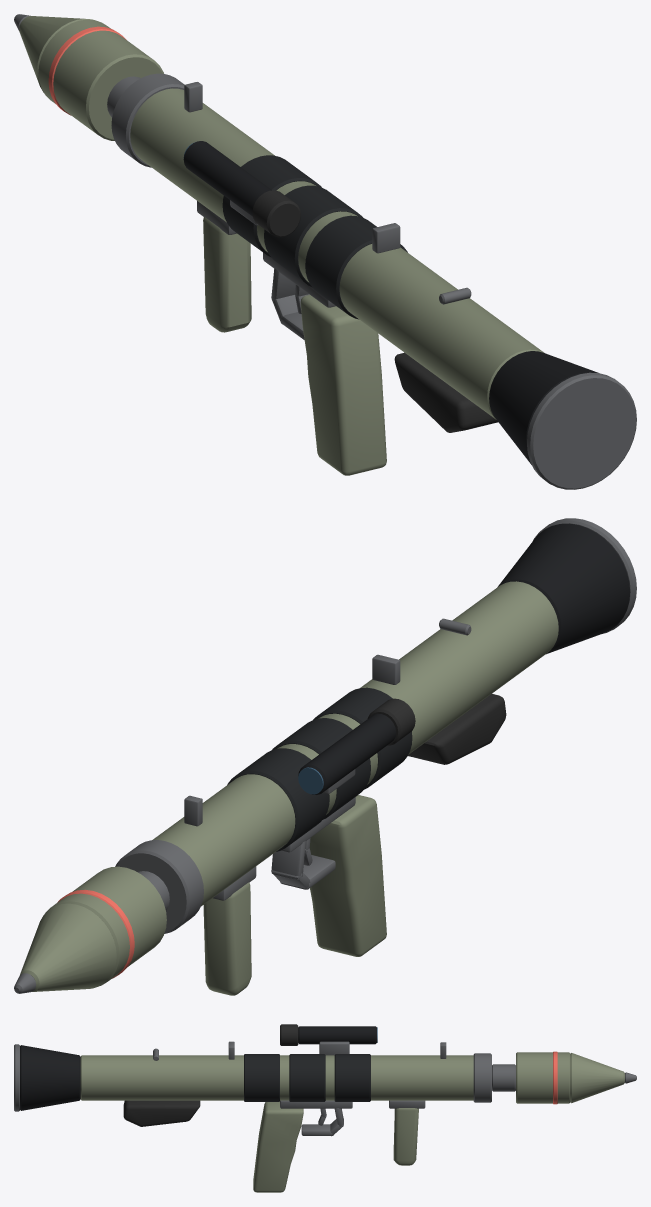
Rendered from RocketLauncher.fbx.
3 views of the same model, one above another, from view 1: azimuth 30°, elevation 25°; view 2: azimuth 150°, elevation 25°; view 3: azimuth 270°, elevation 25° (orthographic). The views are drawn at different scales.
Visible parts, largest first — view 1: Launch Tube, Pistol Grip, Rear Venturi Lip, Warhead Body, Rear Venturi, Forward Grip, Heat Shield Wrap 1, Shoulder Rest, Sight Body, Heat Shield Wrap 2, Heat Shield Wrap 3, Front Collar (+4 smaller); view 2: Launch Tube, Rear Venturi, Pistol Grip, Warhead Cone, Warhead Body, Forward Grip, Front Collar, Shoulder Rest, Heat Shield Wrap 3, Sight Body, Heat Shield Wrap 2, Heat Shield Wrap 1 (+6 smaller); view 3: Launch Tube, Rear Venturi, Pistol Grip, Warhead Body, Warhead Cone, Heat Shield Wrap 3, Heat Shield Wrap 2, Shoulder Rest, Heat Shield Wrap 1, Sight Body, Forward Grip, Front Collar (+8 smaller).
Part boxes in pixels (x1,y1,x2,y2): Launch Tube: (130,88,544,419); Pistol Grip: (300,294,386,475); Rear Venturi Lip: (527,372,636,489); Warhead Body: (38,19,163,140); Rear Venturi: (489,351,598,464); Forward Grip: (203,217,251,332); Heat Shield Wrap 1: (305,215,407,319); Shoulder Rest: (394,352,497,432); Sight Body: (183,141,271,216); Heat Shield Wrap 2: (264,185,362,287); Heat Shield Wrap 3: (222,155,321,256); Front Collar: (111,73,184,167); Launch Tube: (152,581,558,906); Rear Venturi: (498,523,630,654); Pistol Grip: (309,795,386,956); Warhead Cone: (19,903,116,991); Warhead Body: (45,866,166,985); Forward Grip: (203,882,251,995); Front Collar: (115,840,203,933); Shoulder Rest: (408,694,506,764); Heat Shield Wrap 3: (227,748,329,851); Sight Body: (298,713,396,794); Heat Shield Wrap 2: (272,718,370,819); Heat Shield Wrap 1: (313,687,412,789); Launch Tube: (80,1055,473,1100); Rear Venturi: (20,1045,80,1110); Pistol Grip: (253,1101,303,1192); Warhead Body: (516,1052,570,1103); Warhead Cone: (570,1053,624,1103); Heat Shield Wrap 3: (334,1054,370,1101); Heat Shield Wrap 2: (289,1054,325,1101); Shoulder Rest: (123,1100,200,1126); Heat Shield Wrap 1: (244,1054,279,1101); Sight Body: (298,1026,376,1044); Forward Grip: (393,1108,418,1165); Front Collar: (473,1053,491,1102).
Size of the model in its own units: 0.268 by 0.536 by 2.06.
